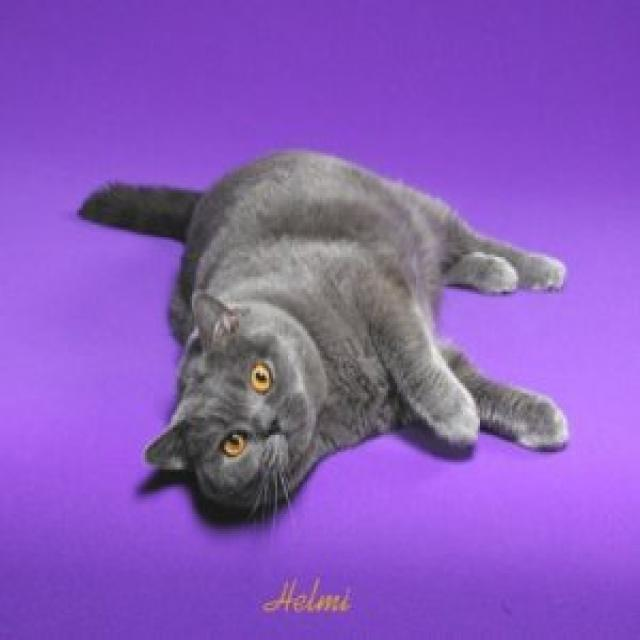British_Shorthair: (127, 284, 348, 529)
